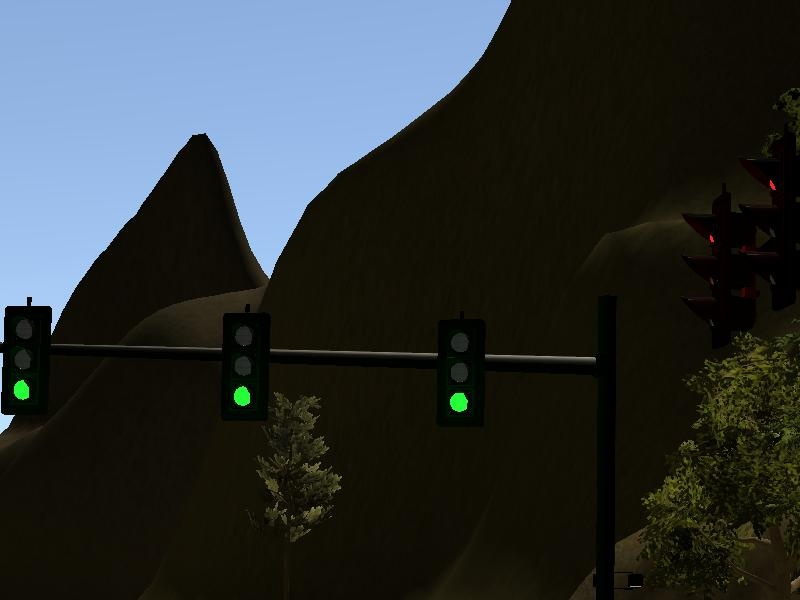GREEN: (219, 313, 269, 419), (434, 315, 484, 421), (1, 306, 50, 412)
